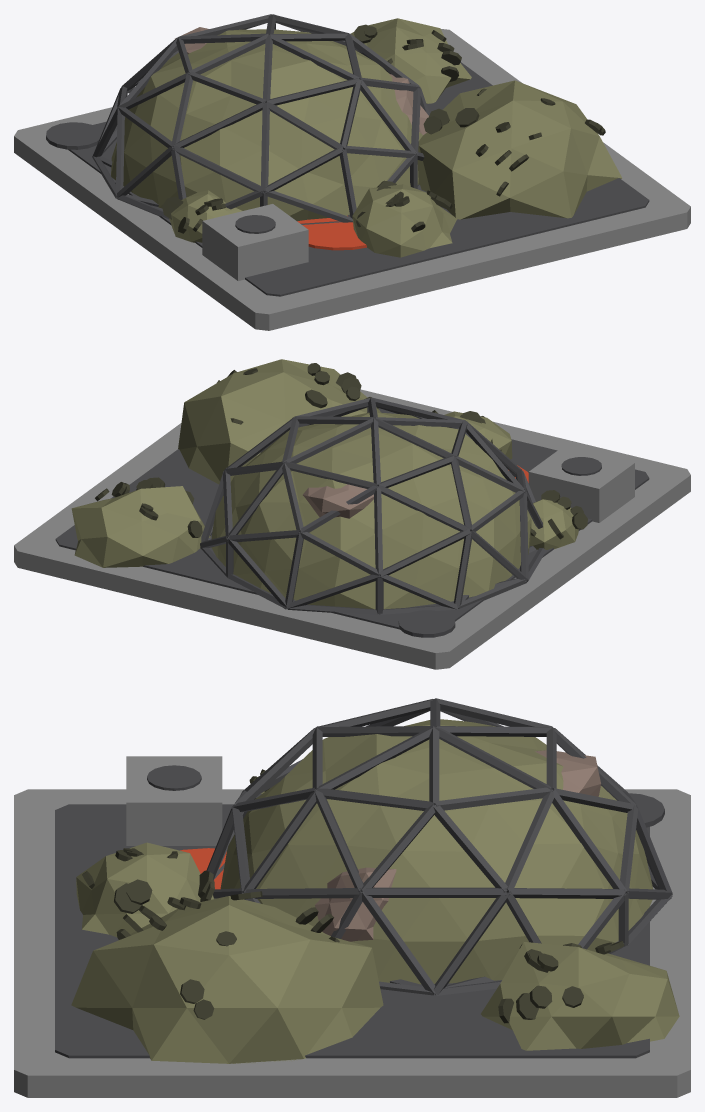
File: vge_infested_gravlock_tether.obj
3 views of the same model, one above another, from view 1: azimuth 30°, elevation 25°; view 2: azimuth 150°, elevation 25°; view 3: azimuth 270°, elevation 25° (orthographic). The views are drawn at different scales.
Visible parts, largest first — view 1: vge_infested_gravlock_tether_6, vge_infested_gravlock_tether_0, vge_infested_gravlock_tether_103, vge_infested_gravlock_tether_1, vge_infested_gravlock_tether_2, vge_infested_gravlock_tether_118, vge_infested_gravlock_tether_91, vge_infested_gravlock_tether_5, vge_infested_gravlock_tether_129, vge_infested_gravlock_tether_4, vge_infested_gravlock_tether_39, vge_infested_gravlock_tether_77 (+27 smaller); view 2: vge_infested_gravlock_tether_6, vge_infested_gravlock_tether_0, vge_infested_gravlock_tether_103, vge_infested_gravlock_tether_91, vge_infested_gravlock_tether_1, vge_infested_gravlock_tether_2, vge_infested_gravlock_tether_129, vge_infested_gravlock_tether_7, vge_infested_gravlock_tether_4, vge_infested_gravlock_tether_118, vge_infested_gravlock_tether_31, vge_infested_gravlock_tether_70 (+31 smaller); view 3: vge_infested_gravlock_tether_6, vge_infested_gravlock_tether_0, vge_infested_gravlock_tether_103, vge_infested_gravlock_tether_1, vge_infested_gravlock_tether_91, vge_infested_gravlock_tether_2, vge_infested_gravlock_tether_118, vge_infested_gravlock_tether_8, vge_infested_gravlock_tether_7, vge_infested_gravlock_tether_64, vge_infested_gravlock_tether_23, vge_infested_gravlock_tether_87 (+31 smaller).
Boxes of the visible parts, x1,y1,x2,y2 form: vge_infested_gravlock_tether_6: (111,29,422,221); vge_infested_gravlock_tether_0: (14,29,690,330); vge_infested_gravlock_tether_103: (417,80,622,219); vge_infested_gravlock_tether_1: (68,62,649,296); vge_infested_gravlock_tether_2: (202,204,308,280); vge_infested_gravlock_tether_118: (352,184,457,257); vge_infested_gravlock_tether_91: (351,18,471,103); vge_infested_gravlock_tether_5: (297,215,366,250); vge_infested_gravlock_tether_129: (169,190,242,242); vge_infested_gravlock_tether_4: (46,122,101,149); vge_infested_gravlock_tether_39: (172,145,263,193); vge_infested_gravlock_tether_77: (173,101,265,147); vge_infested_gravlock_tether_6: (211,412,531,609); vge_infested_gravlock_tether_0: (14,389,690,669); vge_infested_gravlock_tether_103: (178,359,380,484); vge_infested_gravlock_tether_91: (71,486,210,567); vge_infested_gravlock_tether_1: (55,408,649,629); vge_infested_gravlock_tether_2: (528,445,634,522); vge_infested_gravlock_tether_129: (530,499,578,549); vge_infested_gravlock_tether_7: (303,484,373,518); vge_infested_gravlock_tether_4: (398,610,455,637); vge_infested_gravlock_tether_118: (444,411,512,459); vge_infested_gravlock_tether_31: (379,529,470,576); vge_infested_gravlock_tether_70: (378,485,470,531); vge_infested_gravlock_tether_6: (220,719,652,984); vge_infested_gravlock_tether_0: (14,789,690,1097); vge_infested_gravlock_tether_103: (71,896,383,1063); vge_infested_gravlock_tether_1: (55,804,649,1058); vge_infested_gravlock_tether_91: (481,942,679,1050); vge_infested_gravlock_tether_2: (126,756,222,845); vge_infested_gravlock_tether_118: (76,842,214,937); vge_infested_gravlock_tether_8: (315,867,396,941); vge_infested_gravlock_tether_7: (535,750,600,796); vge_infested_gravlock_tether_64: (362,887,506,897); vge_infested_gravlock_tether_23: (434,726,552,789); vge_infested_gravlock_tether_87: (433,891,509,994).
Size of the model in its own units: 4.94 by 1.56 by 4.94.
